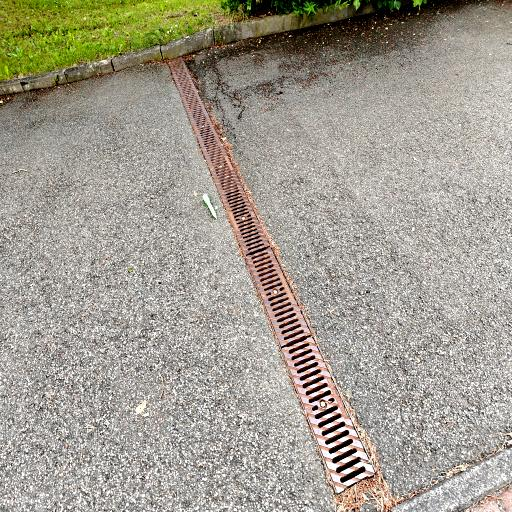Probe-Detection: (202, 194, 217, 219)
